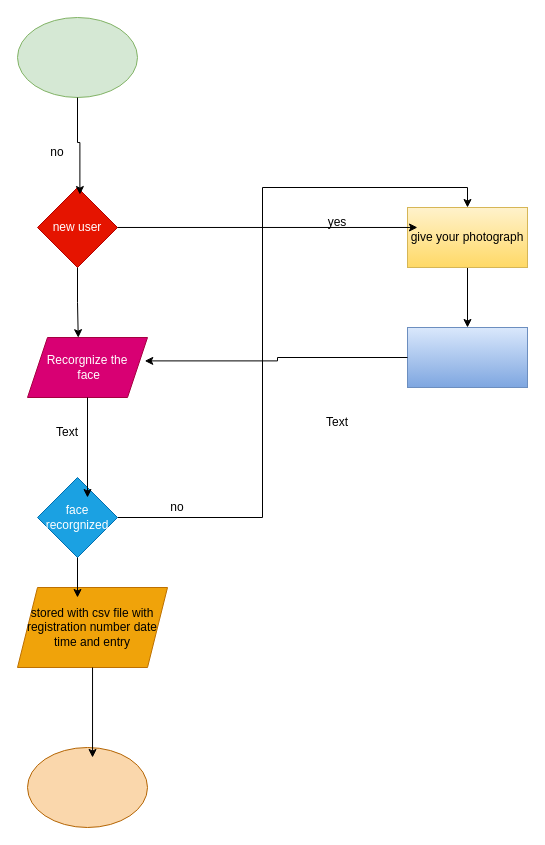
Image size: 545x845. Some labels were removed from this diagram. Here are the shapes that lost their labels. From the top down, the box of each, then its label:
(16, 16, 138, 98): start
(406, 326, 528, 388): store the face data in folder on your name
(26, 746, 148, 828): end
